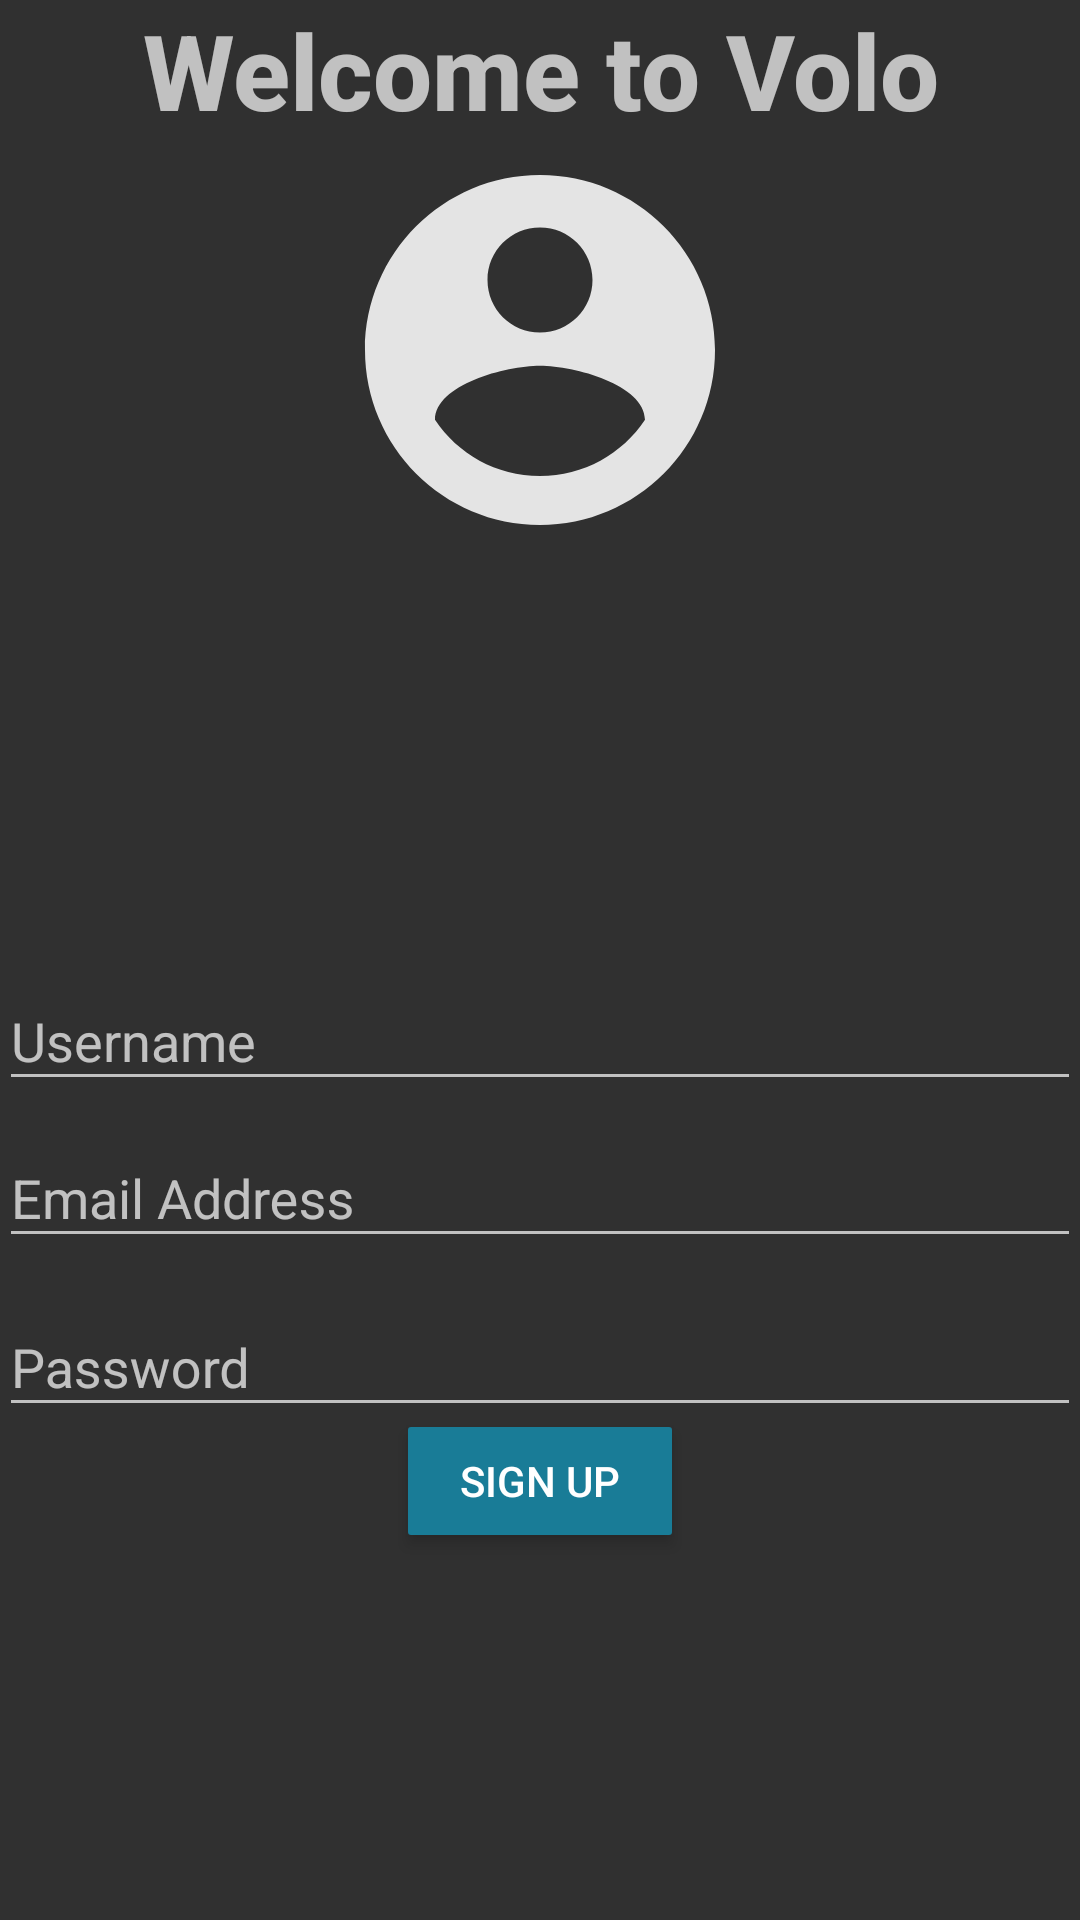

Screen size 1080 x 1920. Icon name, then its center in pixels as [x,y]:
account circle: [540,350]
